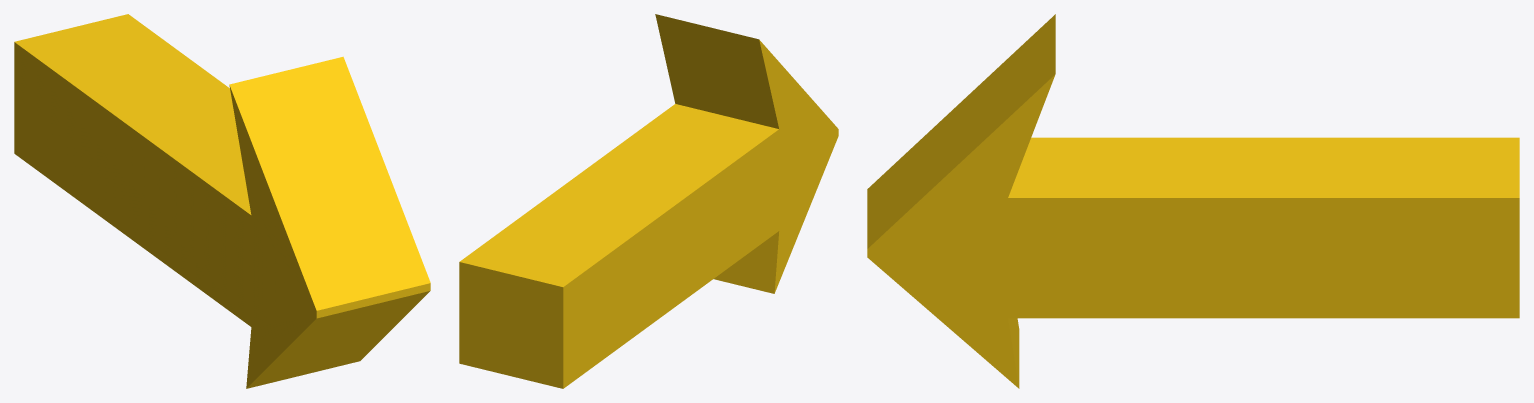
File: arrow.glb
3 views of the same model, side by side, from view 1: azimuth 30°, elevation 25°; view 2: azimuth 150°, elevation 25°; view 3: azimuth 270°, elevation 25° (orthographic). The views are drawn at different scales.
Parts seen in each view (by area): view 1: Cube; view 2: Cube; view 3: Cube.
Part boxes in pixels (x1,y1,x2,y2): Cube: (14, 14, 430, 388); Cube: (459, 14, 838, 388); Cube: (867, 14, 1519, 388).
Size of the model in its own units: 0.1969 by 0.4817 by 0.904.
